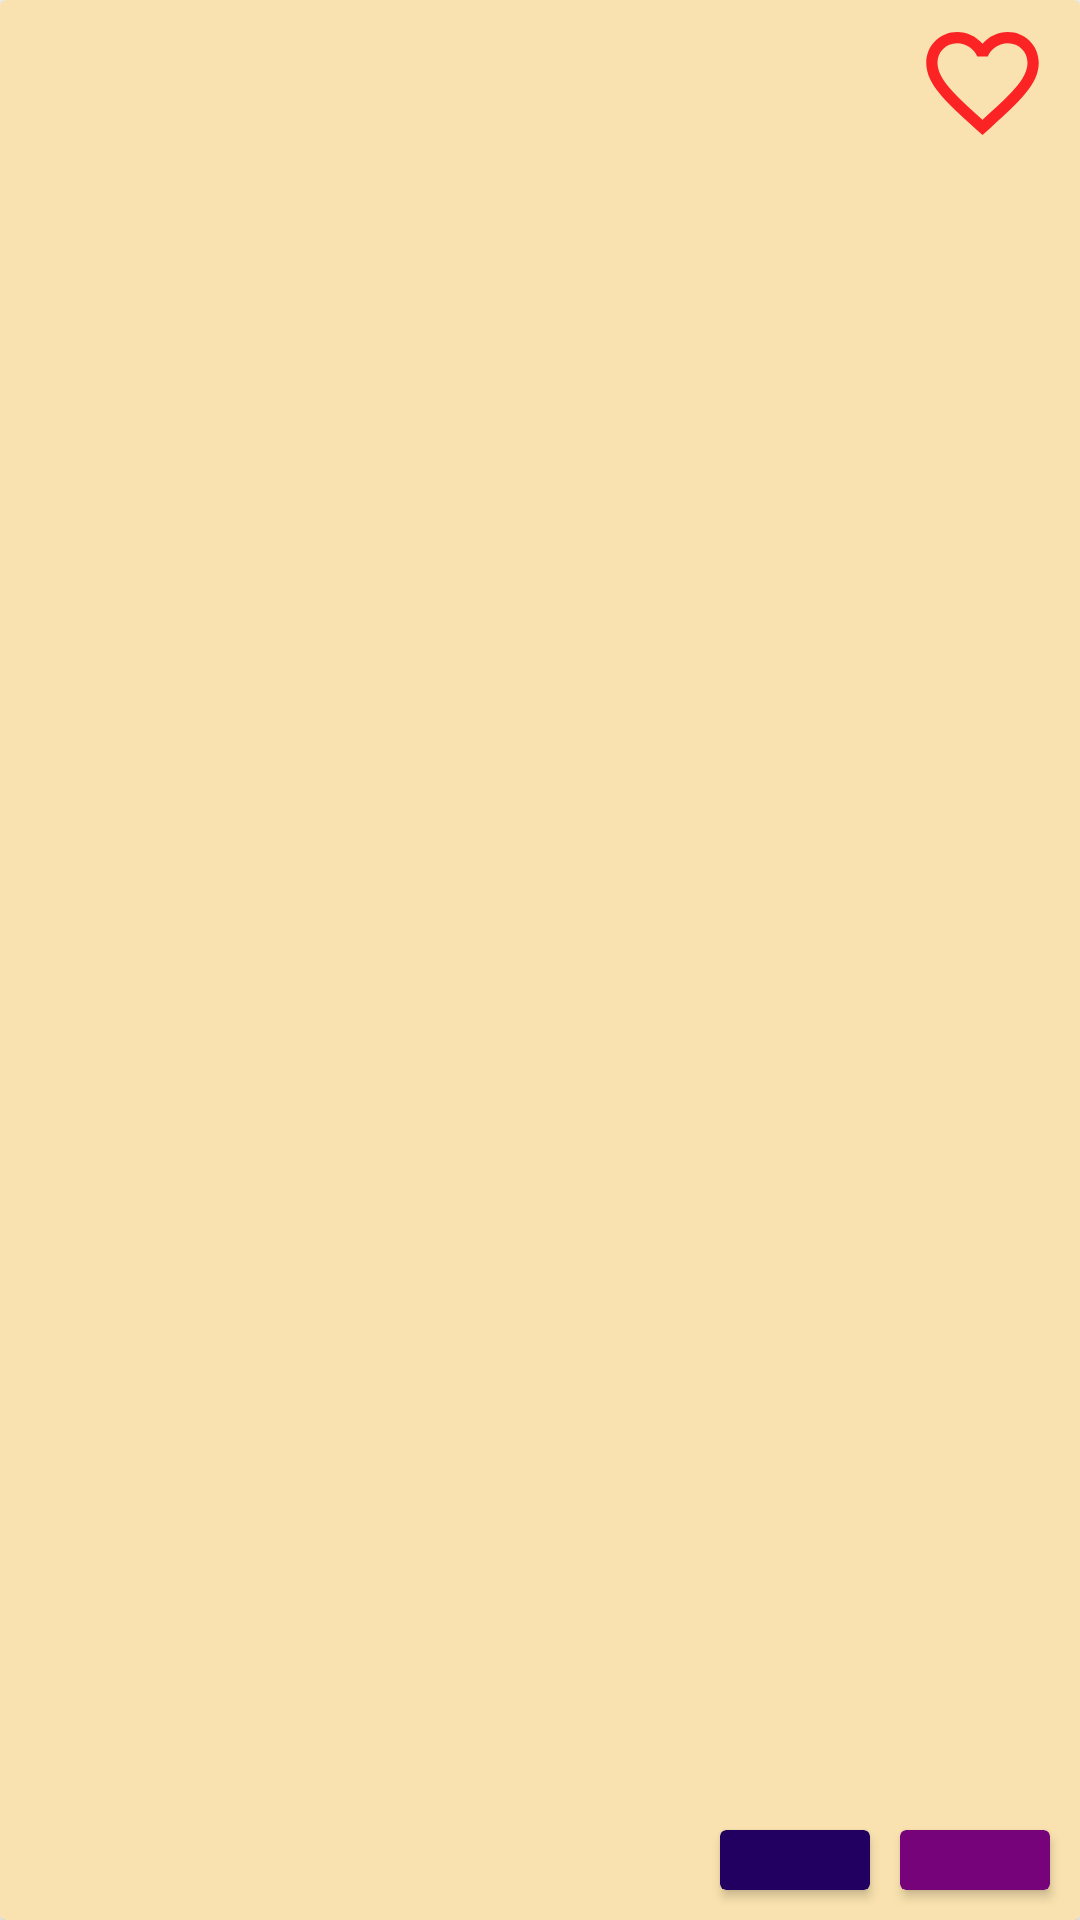

Screen size 1080×1920. Icon name, then its box in pixels as {"left": x1, "top": y1, "right": x2, "bottom": y2}:
Favorites: {"left": 926, "top": 32, "right": 1039, "bottom": 135}
